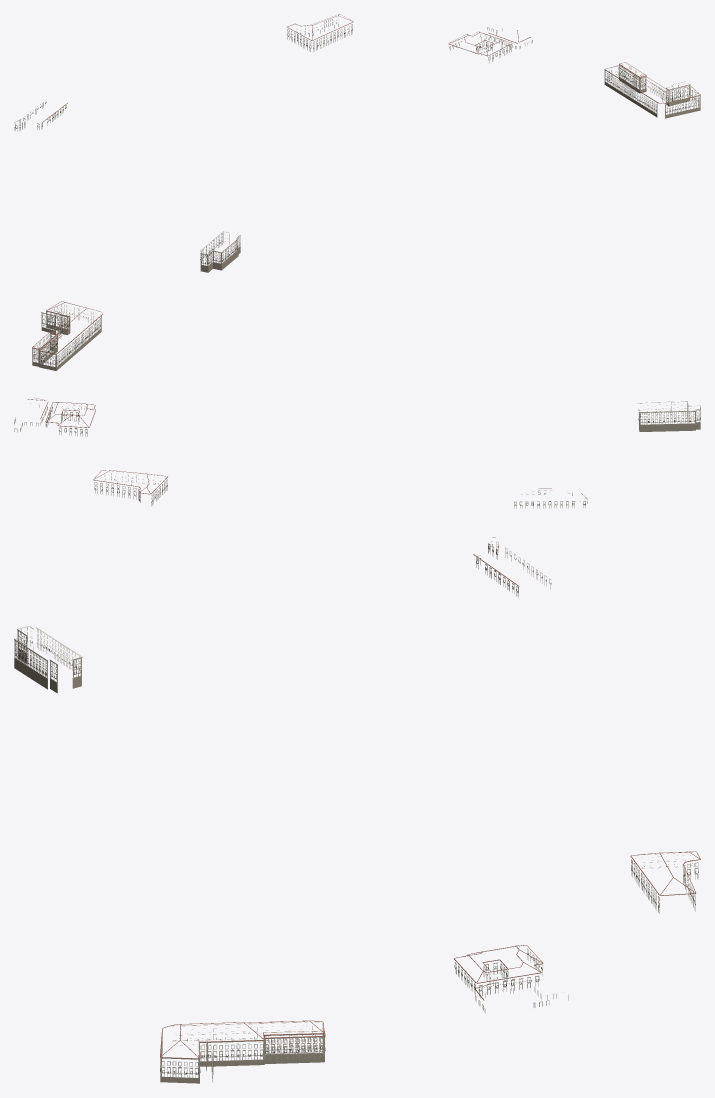
The picture shows the model from 3 angles, top to bottom: view 1: azimuth 30°, elevation 25°; view 2: azimuth 150°, elevation 25°; view 3: azimuth 270°, elevation 25°; orthographic projection. The views are drawn at different scales.
Visible parts, largest first — view 1: detail; view 2: detail; view 3: detail.
Part boxes in pixels (x1,y1,x2,y2): detail: (14, 14, 700, 272); detail: (14, 301, 700, 508); detail: (14, 537, 700, 1083).
Bounding box in the file's own units: 515 × 47.83 × 325.
